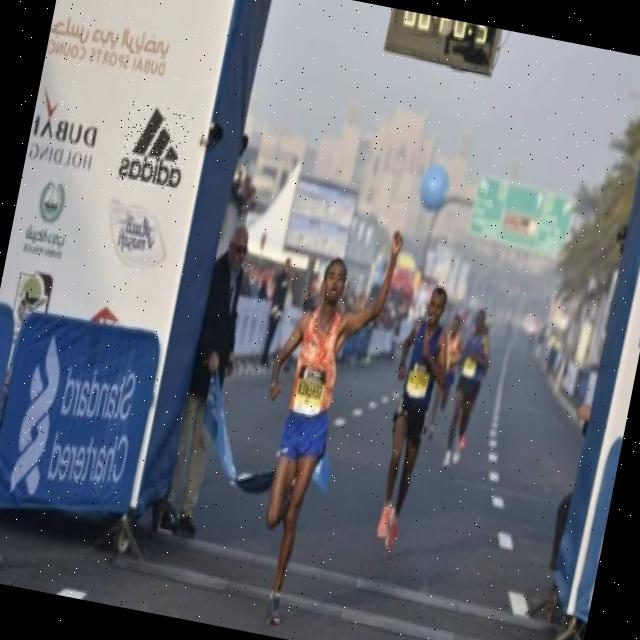Adidas: (116, 101, 194, 193)
Standard Chartered: (6, 330, 148, 515)
